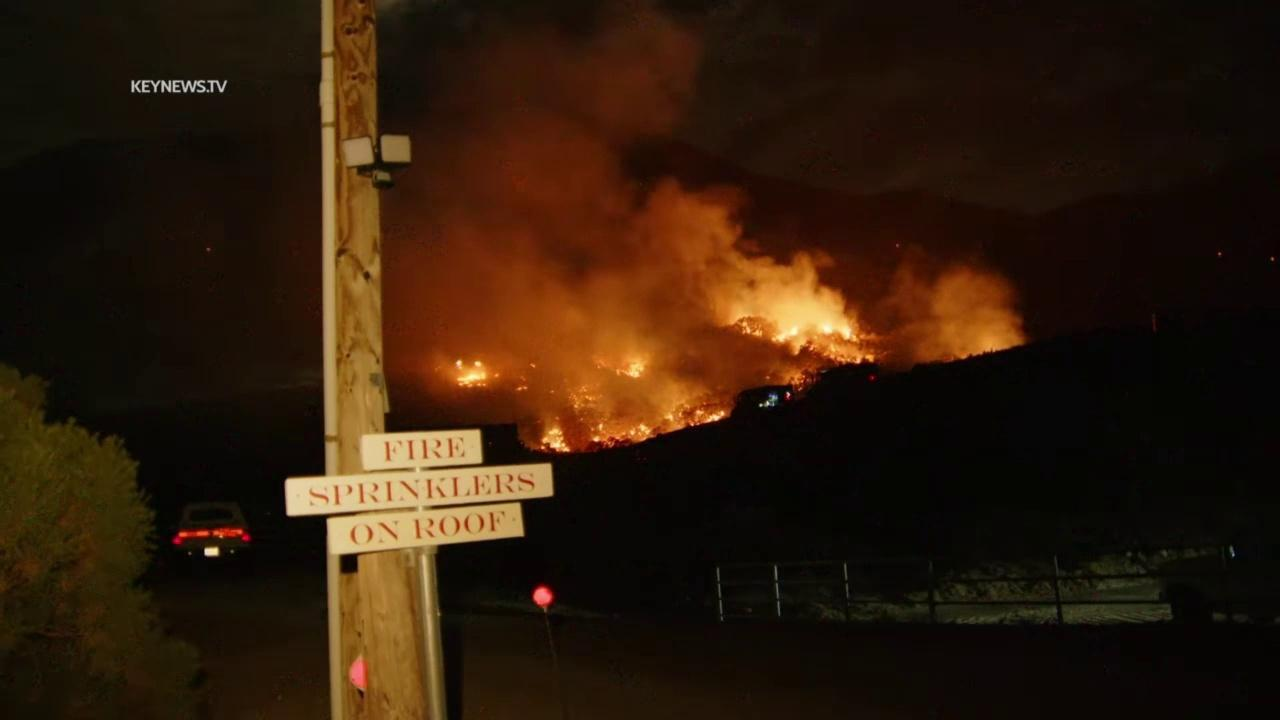fire: (663, 404, 726, 428), (539, 416, 573, 453), (455, 358, 488, 389), (627, 423, 656, 444), (615, 360, 647, 378), (821, 324, 853, 340), (823, 353, 863, 365), (773, 326, 799, 344), (596, 423, 604, 432), (593, 435, 601, 443), (529, 361, 537, 369)
smoke: (371, 8, 1039, 463)
